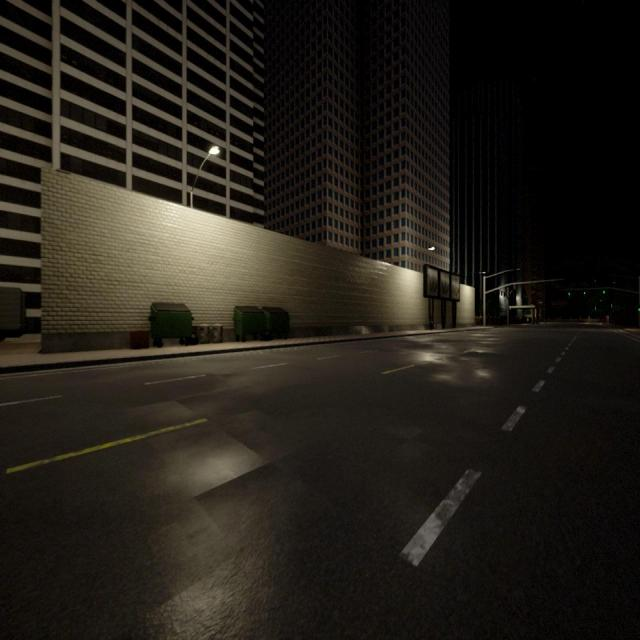traffic_light: (602, 288, 606, 294), (568, 290, 570, 296), (584, 289, 586, 295), (638, 308, 640, 312)
